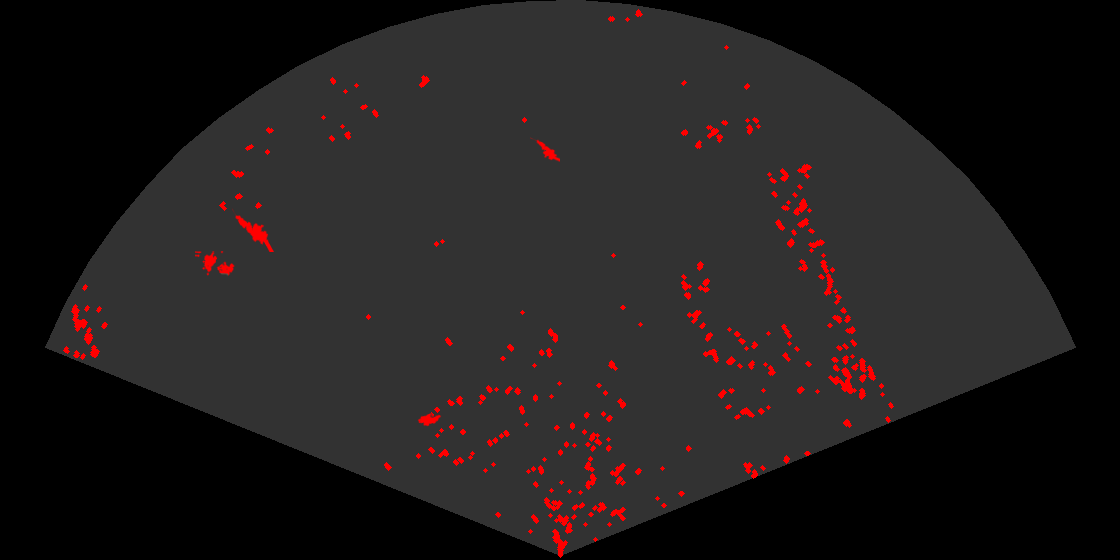AUV: (416, 412, 443, 428)
cage: (195, 251, 236, 277)
frogman: (232, 207, 274, 252), (530, 137, 560, 163)
